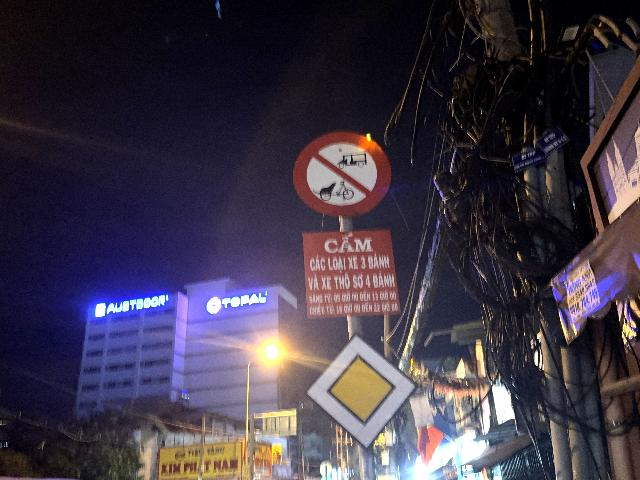bat-dau-duong-uu-tien: (304, 333, 417, 452)
cam-xe-3-banh-xe-tho-so-4-banh: (292, 132, 392, 218)
